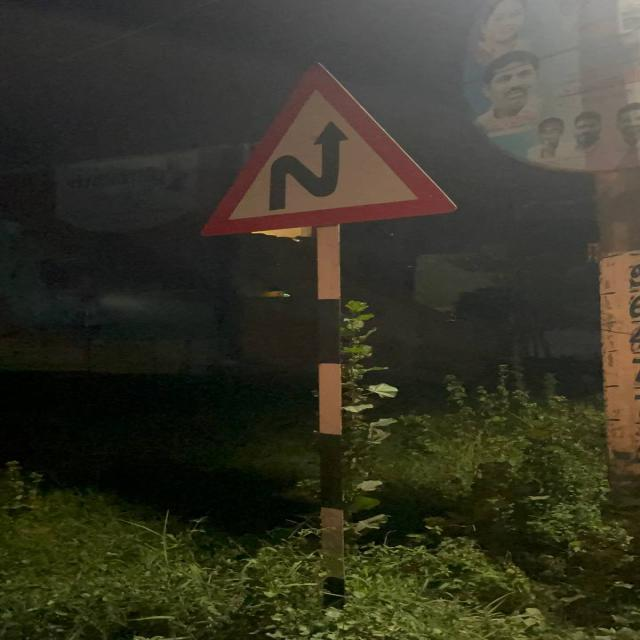right reverse bend: (195, 56, 471, 242)
